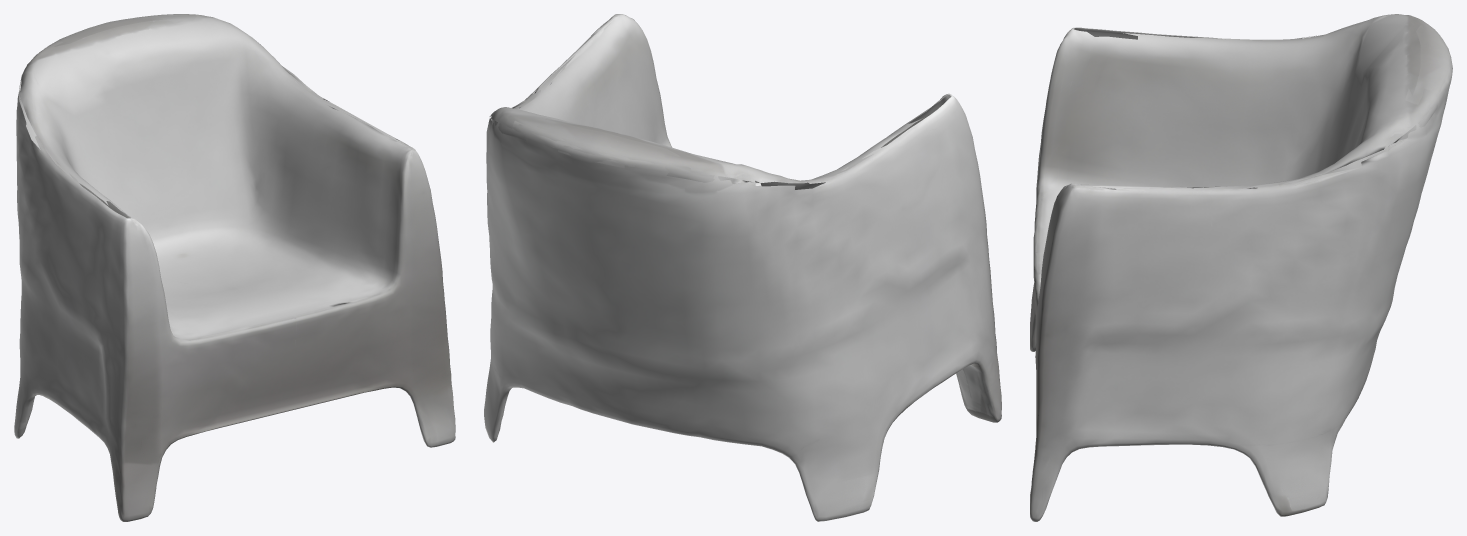
The model's file is Chair_Lounge_White_32InchesTall_0222191920_texture.glb.
3 views of the same model, side by side, from view 1: azimuth 30°, elevation 25°; view 2: azimuth 150°, elevation 25°; view 3: azimuth 270°, elevation 25° (orthographic). The views are drawn at different scales.
Visible parts, largest first — view 1: Mesh_0; view 2: Mesh_0; view 3: Mesh_0.
Boxes of the visible parts, x1,y1,x2,y2 form: Mesh_0: (14,14,455,521); Mesh_0: (484,14,1001,521); Mesh_0: (1030,14,1452,521).
Size of the model in its own units: 0.8586 by 0.8128 by 0.8287.
1 material, 1 textured.
